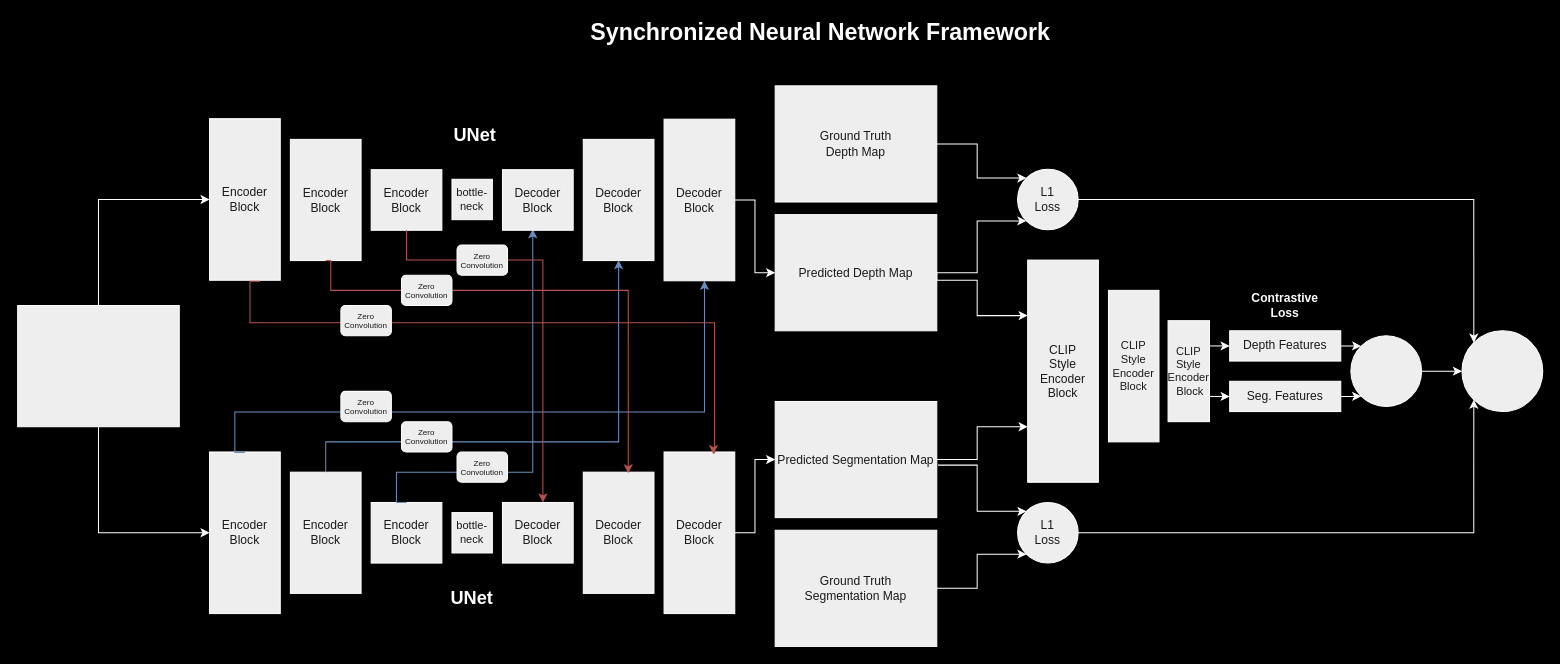
This 1560x664 diagram has some shape labels left out. Each missing label, with the box of its shape:
1 - Cosine Similarity: (1350, 335, 1422, 407)
RGB Image: (17, 305, 179, 427)
Total Loss: (1461, 330, 1543, 412)
